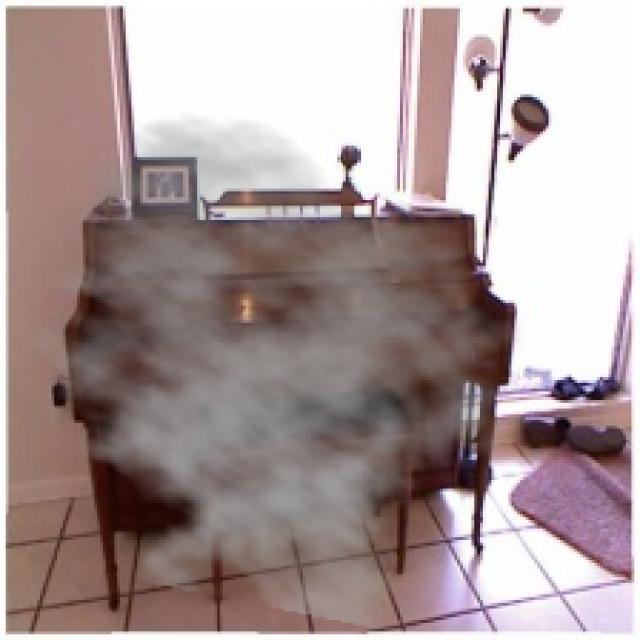Smoke: (0, 111, 526, 632)
